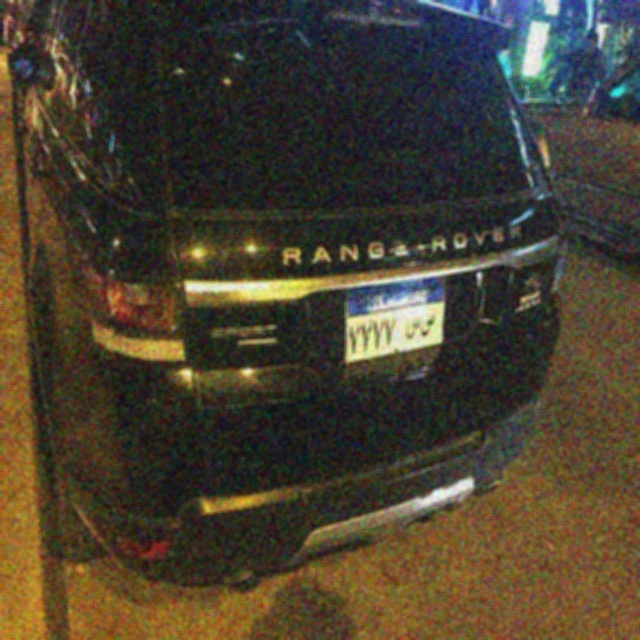License Plate: (341, 274, 449, 365)
